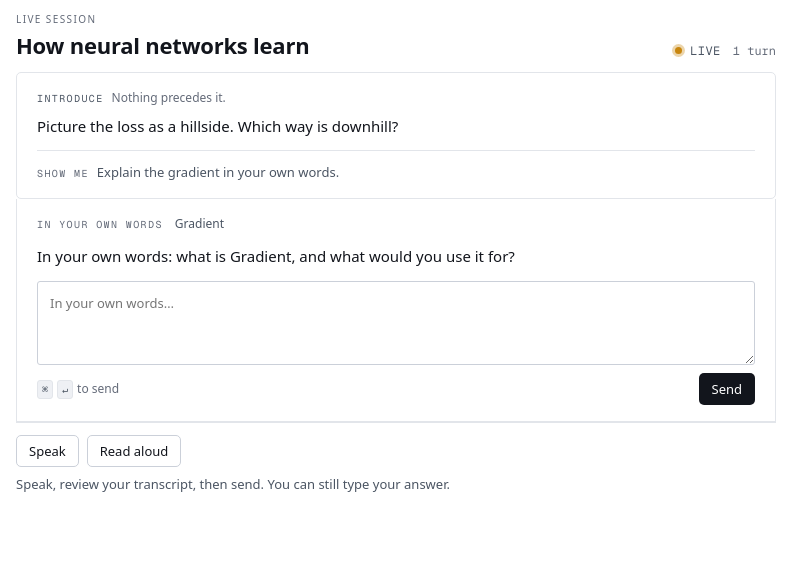
Scenario: SessionView — the plainest surface a session can have › tells the learner to reload when their answer was already recorded
Type "It points downhill." into the text box named "your answer". click: (396, 323)
box: [37,281,755,365]
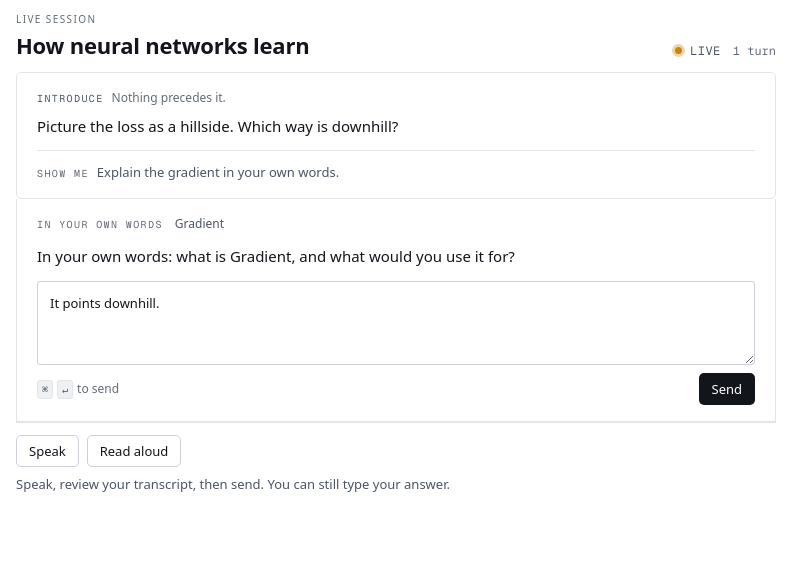
Click the button "Send". click: (727, 389)
box: [698,373,755,405]
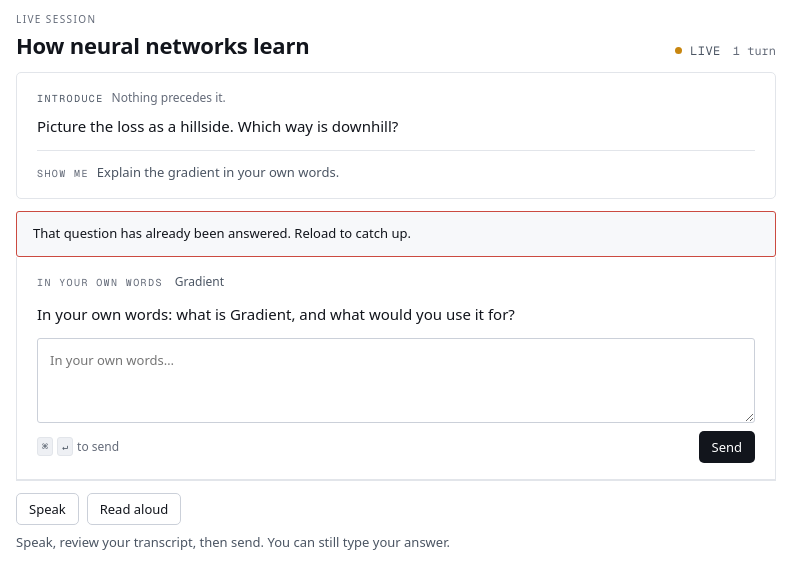
Expected: the text "Picture the loss as a hillside. Which way is downhill?" is shown, [37,116,398,136]
Expected: the message shows "already been answered", [33,224,411,242]
